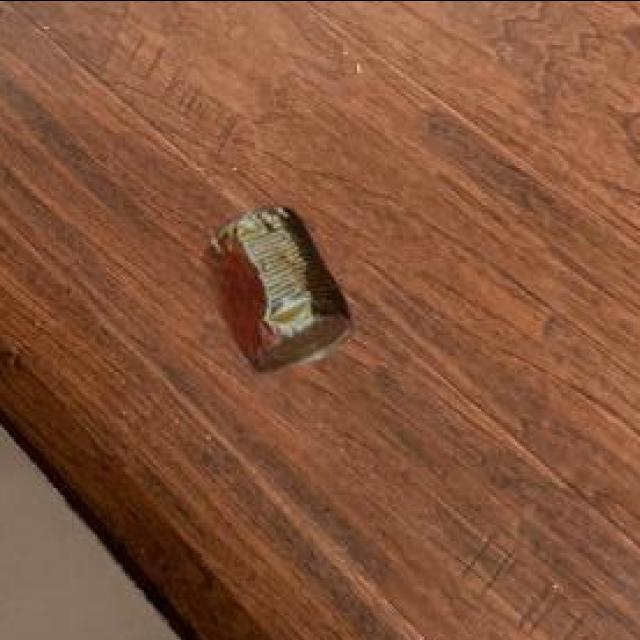logam: (208, 203, 347, 368)
